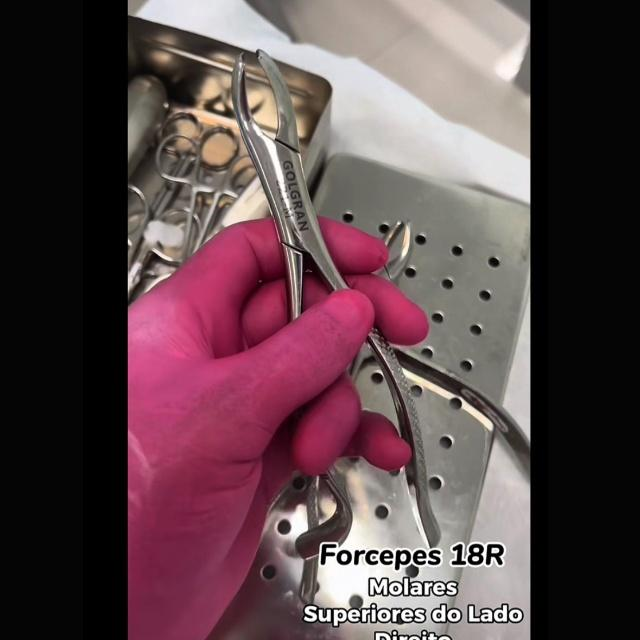forceps: (232, 51, 331, 295), (369, 332, 423, 405), (405, 411, 423, 474), (306, 478, 319, 533), (303, 549, 319, 591), (415, 477, 423, 524), (312, 542, 319, 548)
